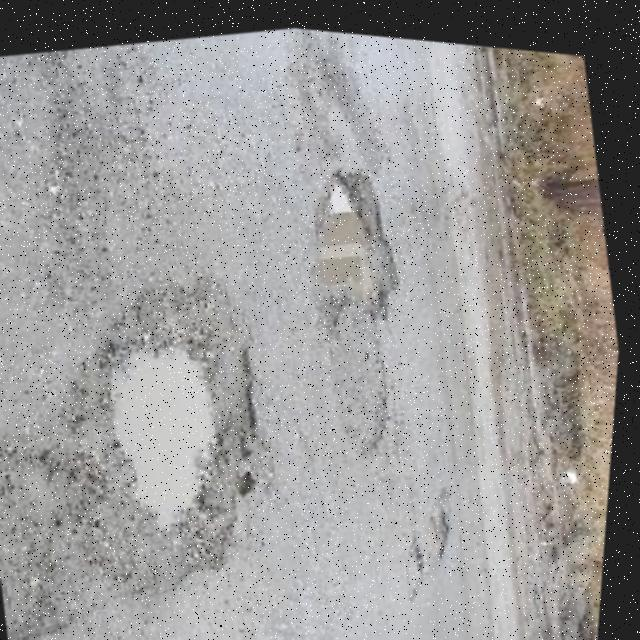pothole: (0, 252, 320, 640), (287, 147, 421, 331), (426, 477, 480, 561), (402, 524, 450, 594)
